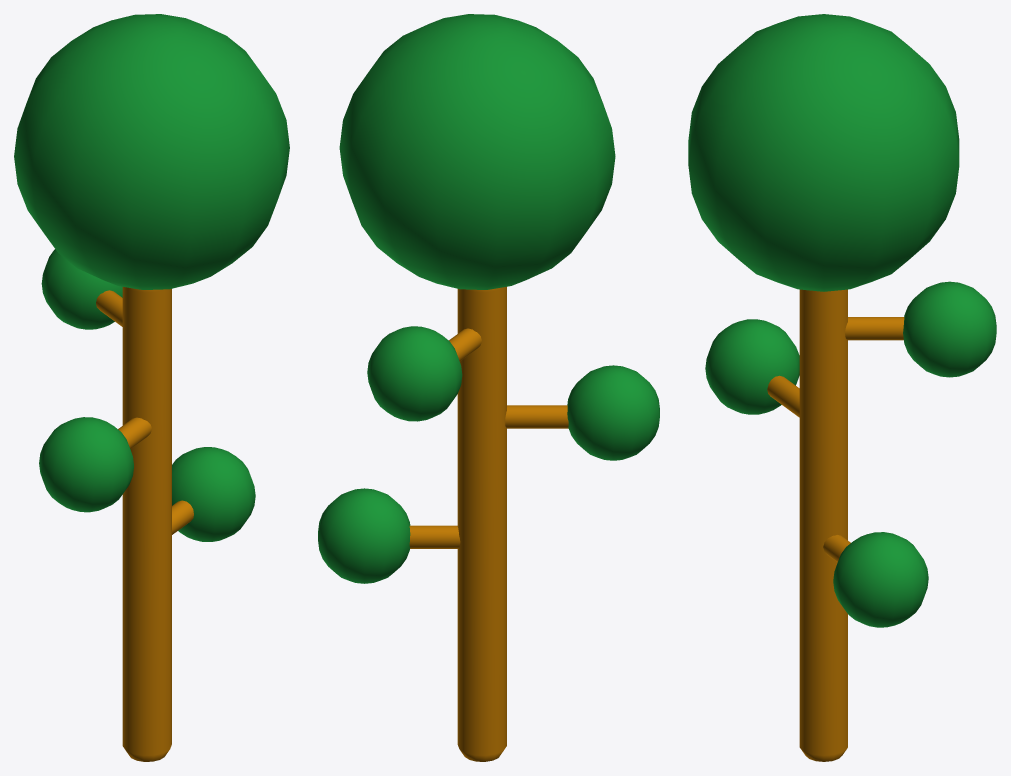
The model's file is TreeTall.fbx.
3 views of the same model, side by side, from view 1: azimuth 30°, elevation 25°; view 2: azimuth 150°, elevation 25°; view 3: azimuth 270°, elevation 25° (orthographic).
Parts seen in each view (by area): view 1: TreeTall2; view 2: TreeTall2; view 3: TreeTall2.
Boxes of the visible parts, x1,y1,x2,y2 form: TreeTall2: [14, 14, 289, 761]; TreeTall2: [318, 14, 659, 761]; TreeTall2: [688, 14, 996, 761].
Bounding box in the file's own units: 3.56 × 9.28 × 3.55.
